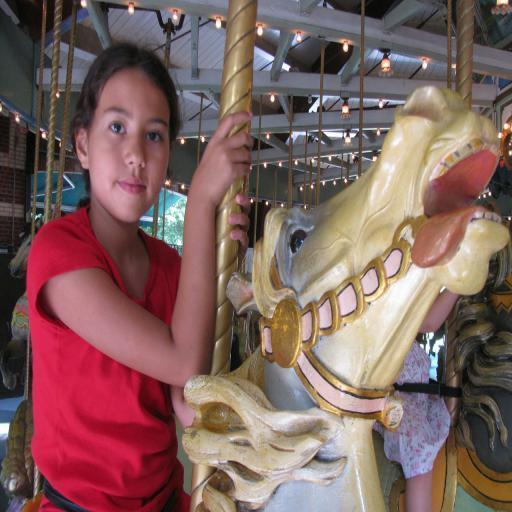horse: (190, 76, 500, 504)
